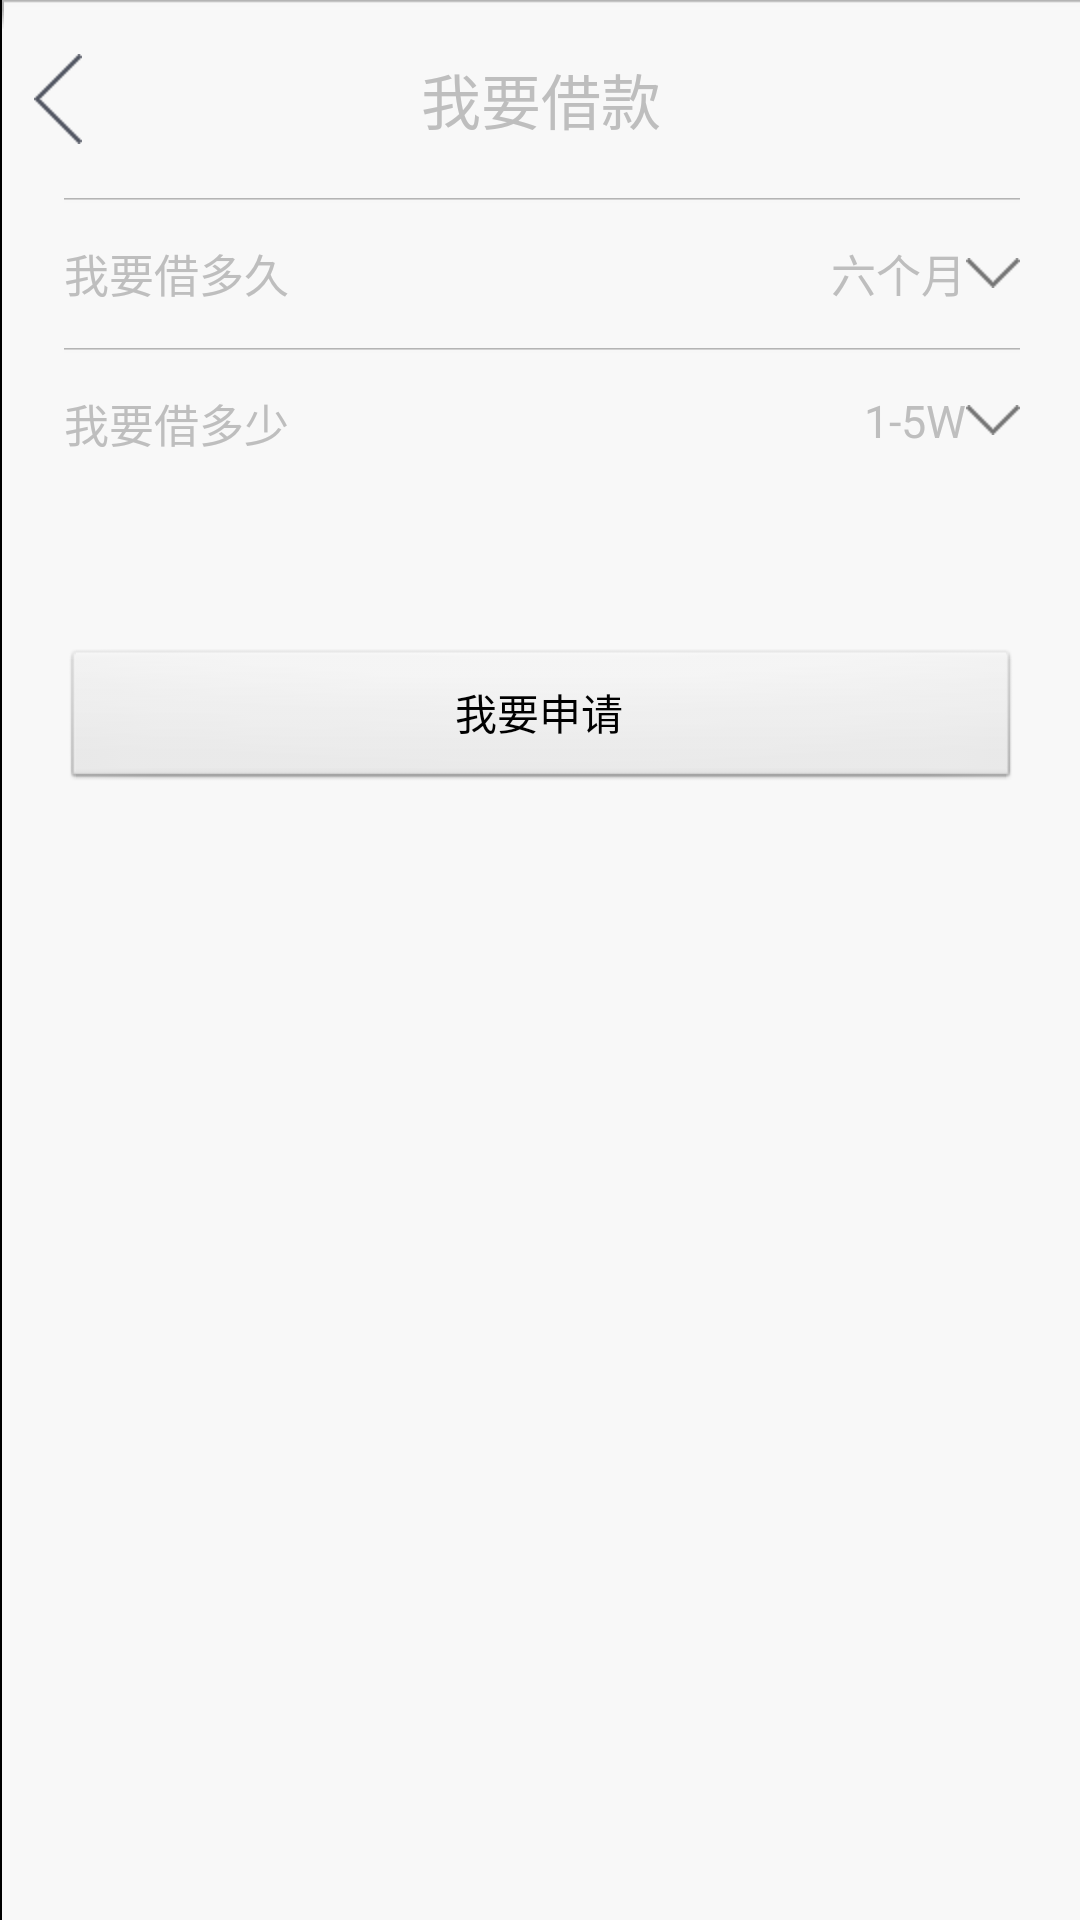

Icon click points for this 1080*1920 phone screenshot, format (x=x, y=y):
back: (x=58, y=99)
